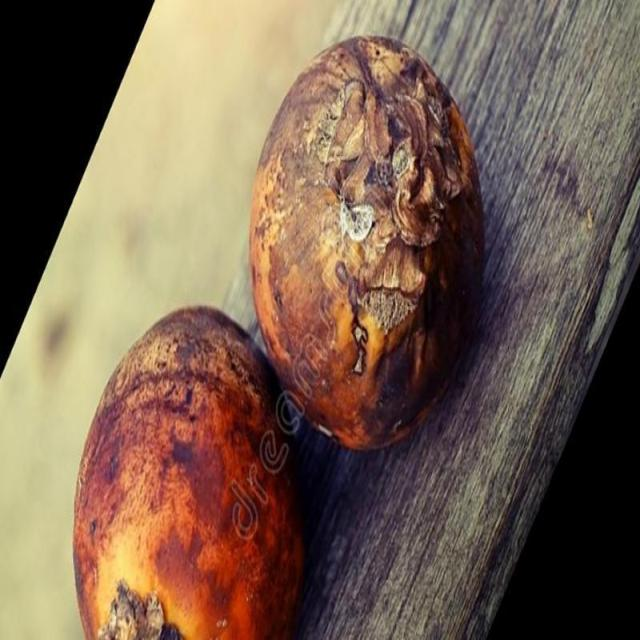damaged: (247, 36, 486, 454), (71, 306, 307, 639)
